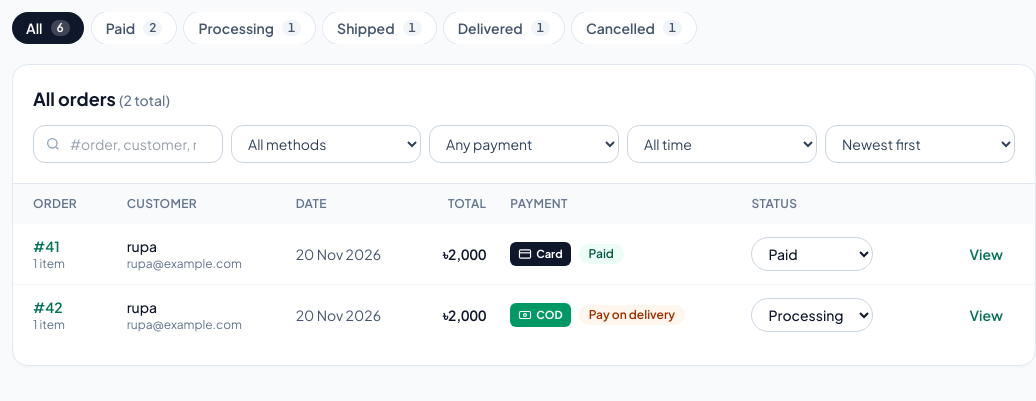
AdminOrdersPage › inline status change; COD orders never offer "Paid"
The image size is (1036, 401).
Select "Shipped" in the dropdown named "Status for order 41": (812, 254) [752,237,874,271]
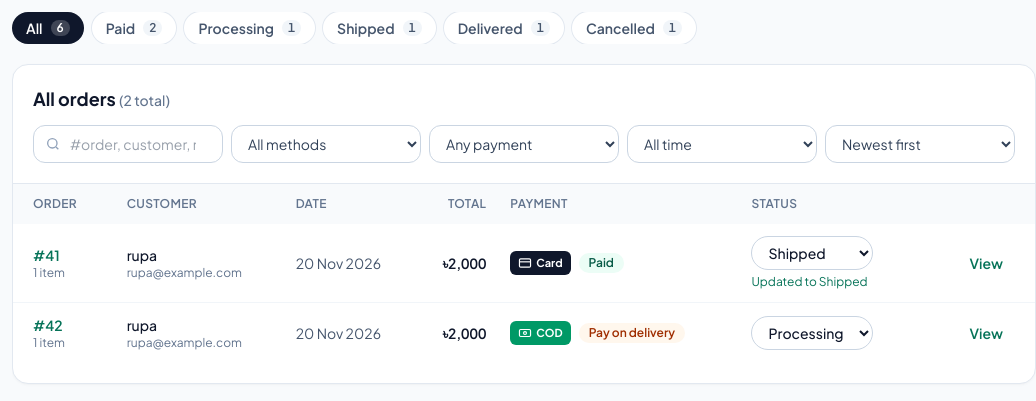
Now the text "Updated to Shipped" is shown, box [752,274,868,289]
